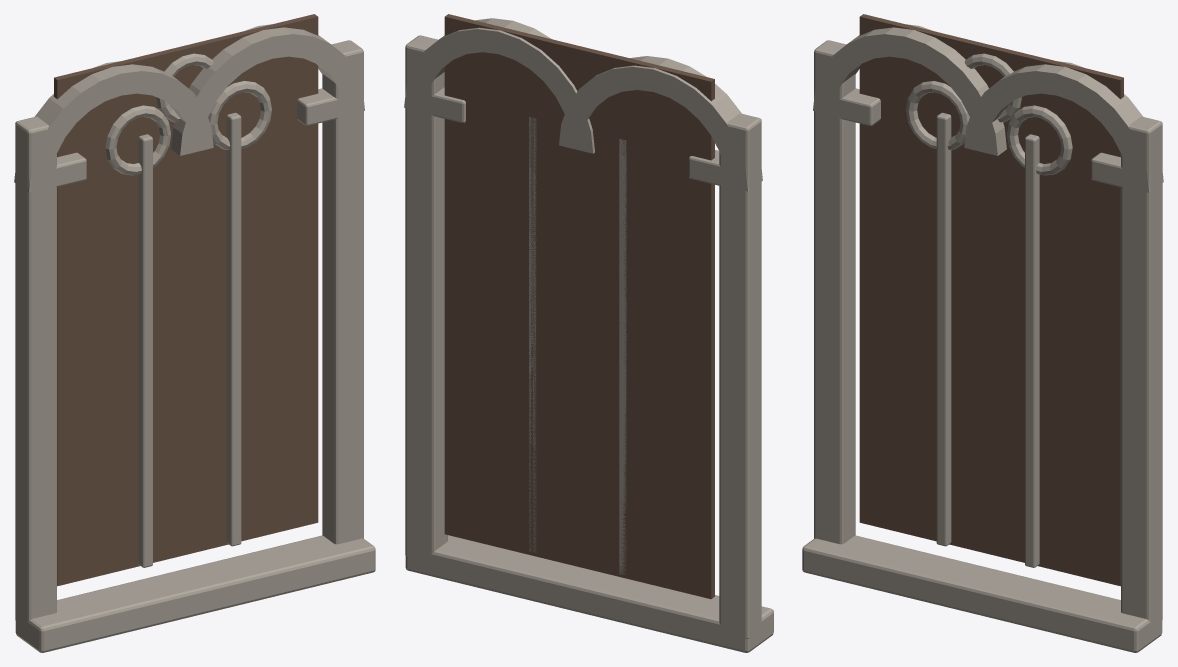
3 renders of one model, left to right at view 1: azimuth 30°, elevation 25°; view 2: azimuth 150°, elevation 25°; view 3: azimuth 330°, elevation 25°, orthographic. The views are drawn at different scales.
Parts seen in each view (by area): view 1: traceryWindow; view 2: traceryWindow; view 3: traceryWindow.
Part boxes in pixels (x1=…): traceryWindow: x1=14, y1=14, x2=375, y2=652; traceryWindow: x1=404, y1=14, x2=773, y2=652; traceryWindow: x1=802, y1=14, x2=1163, y2=652.
Size of the model in its own units: 1.6 by 2.5 by 0.22.
